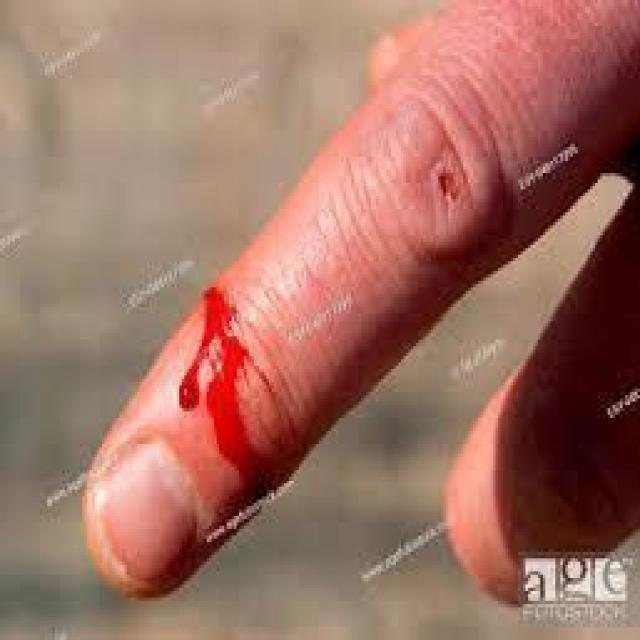flood: (174, 264, 292, 502)
